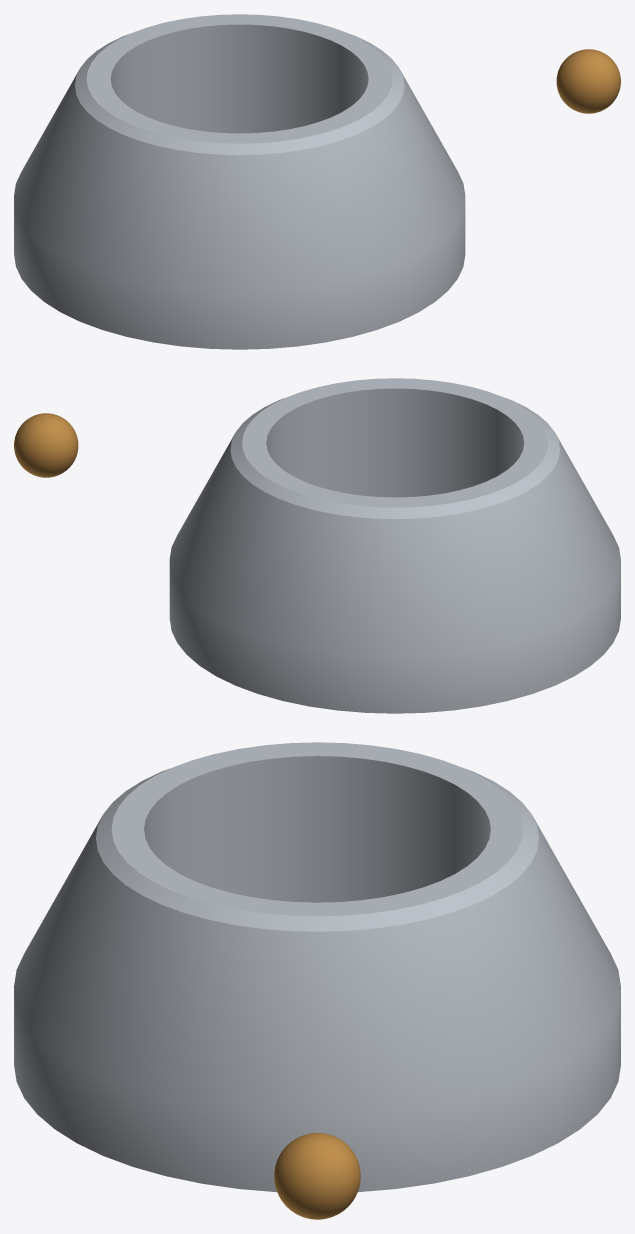
File: steep-before.glb
The picture shows the model from 3 angles, top to bottom: view 1: azimuth 30°, elevation 25°; view 2: azimuth 150°, elevation 25°; view 3: azimuth 270°, elevation 25°; orthographic projection. The views are drawn at different scales.
Visible parts, largest first — view 1: bushing, preserved; view 2: bushing, preserved; view 3: bushing, preserved.
Boxes of the visible parts, x1,y1,x2,y2 form: bushing: (14, 14, 465, 349); preserved: (556, 49, 620, 113); bushing: (169, 378, 620, 713); preserved: (14, 413, 78, 477); bushing: (14, 742, 620, 1192); preserved: (274, 1133, 360, 1219).
Bounding box in the file's own units: 0.041 × 0.012 × 0.028.
